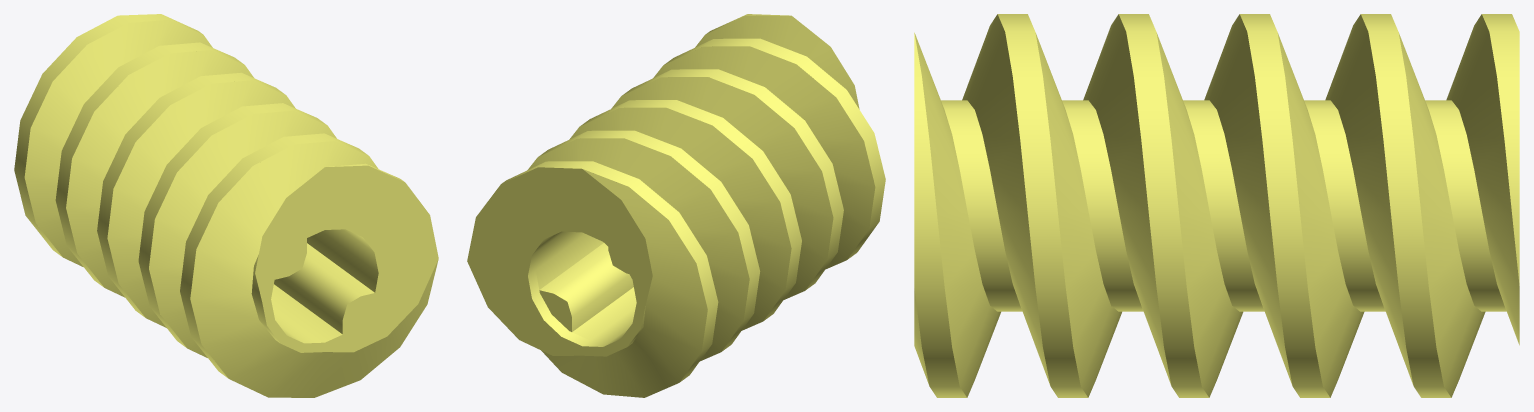
3 renders of one model, left to right at view 1: azimuth 30°, elevation 25°; view 2: azimuth 150°, elevation 25°; view 3: azimuth 270°, elevation 25°, orthographic. The views are drawn at different scales.
Visible parts, largest first — view 1: 32905.dat; view 2: 32905.dat; view 3: 32905.dat.
Part boxes in pixels (x1=…): 32905.dat: x1=14, y1=14, x2=438, y2=397; 32905.dat: x1=467, y1=14, x2=885, y2=397; 32905.dat: x1=914, y1=14, x2=1519, y2=397.
Bounding box in the file's own units: 0.0102 × 0.0102 × 0.016.
